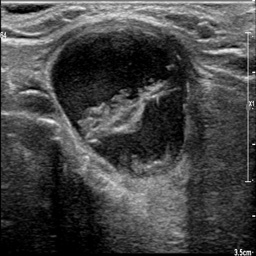mass: (50, 30, 193, 172)
